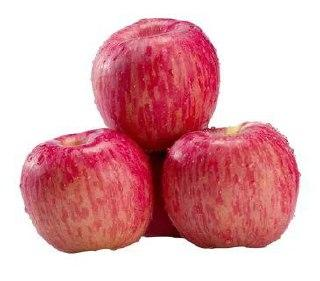Apple: (161, 120, 300, 246), (91, 11, 219, 140), (21, 130, 156, 250)
